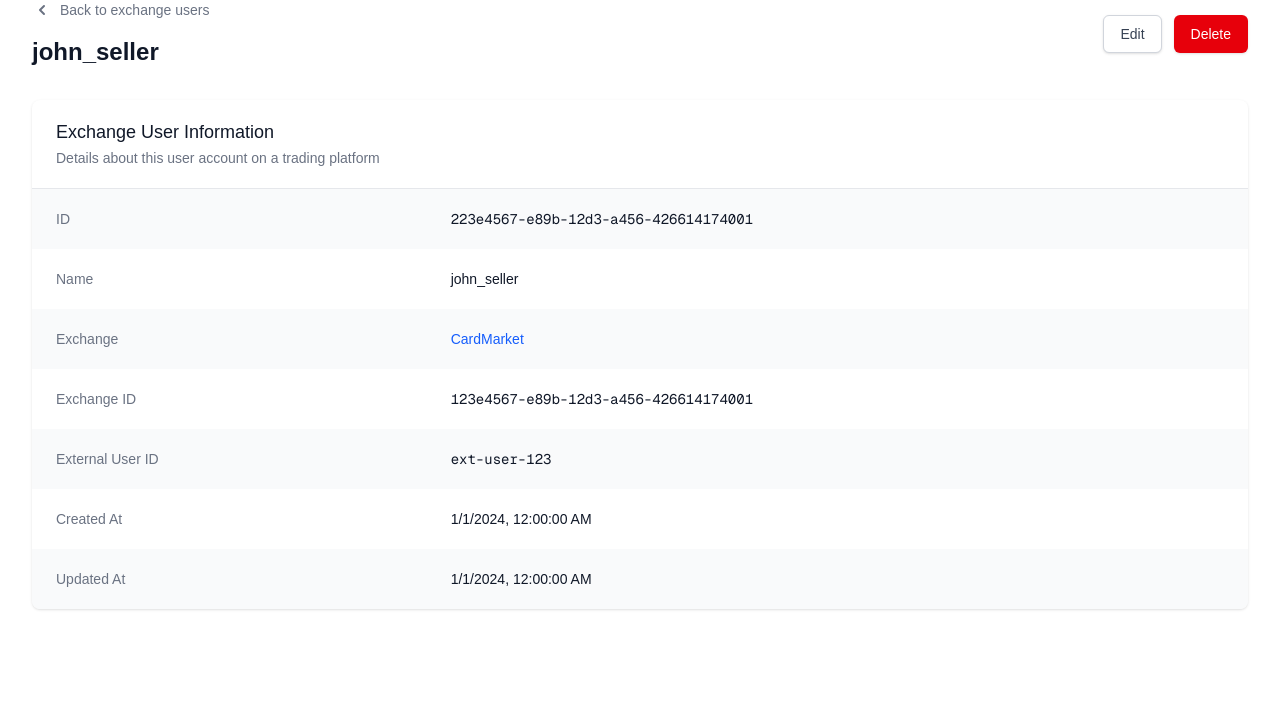
it: ExchangeUserDetail › opens delete confirmation dialog when Delete button is clicked
This screenshot has width=1280, height=720.
Click the button "Delete" at {"x": 1211, "y": 34}, box left=1174, top=15, right=1248, bottom=53
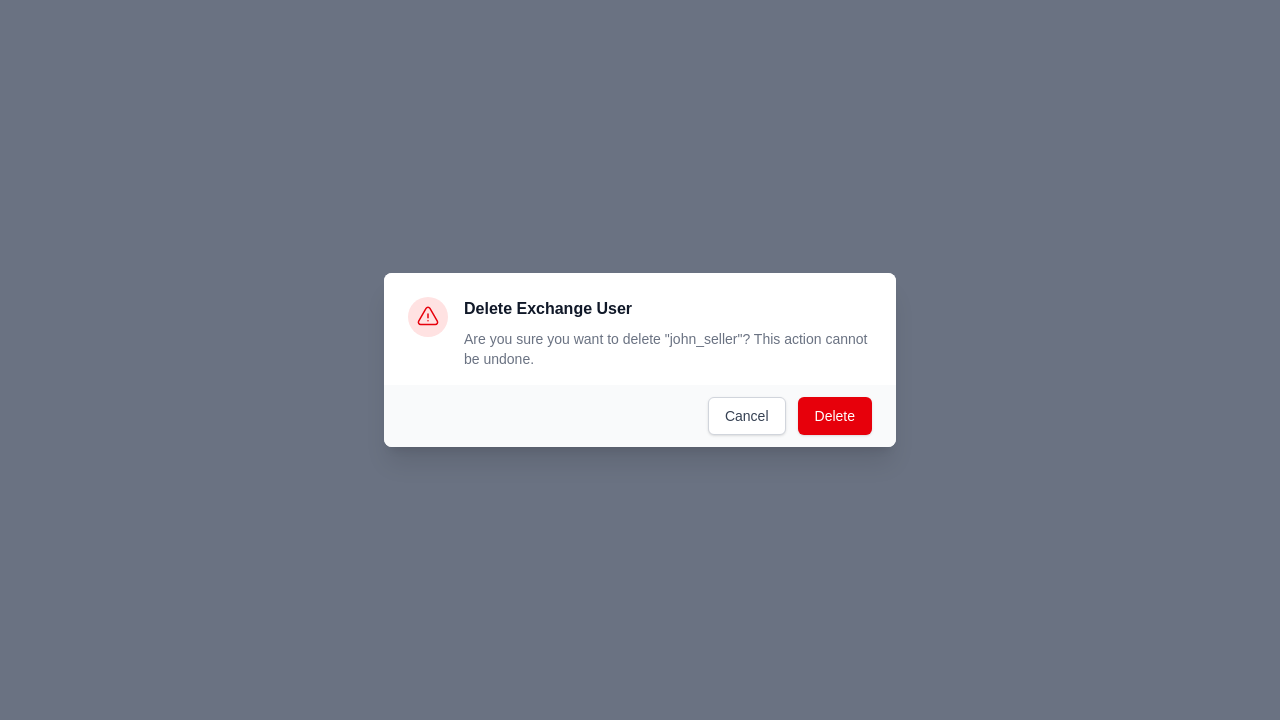
expect the heading "Delete Exchange User" is shown: met, box left=464, top=300, right=632, bottom=317
